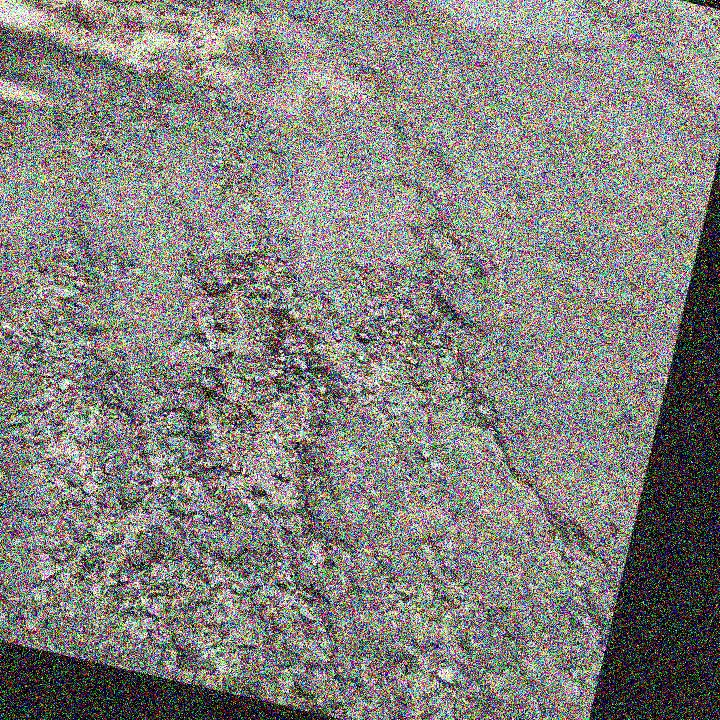pothole: (125, 230, 371, 525), (342, 267, 478, 392)
